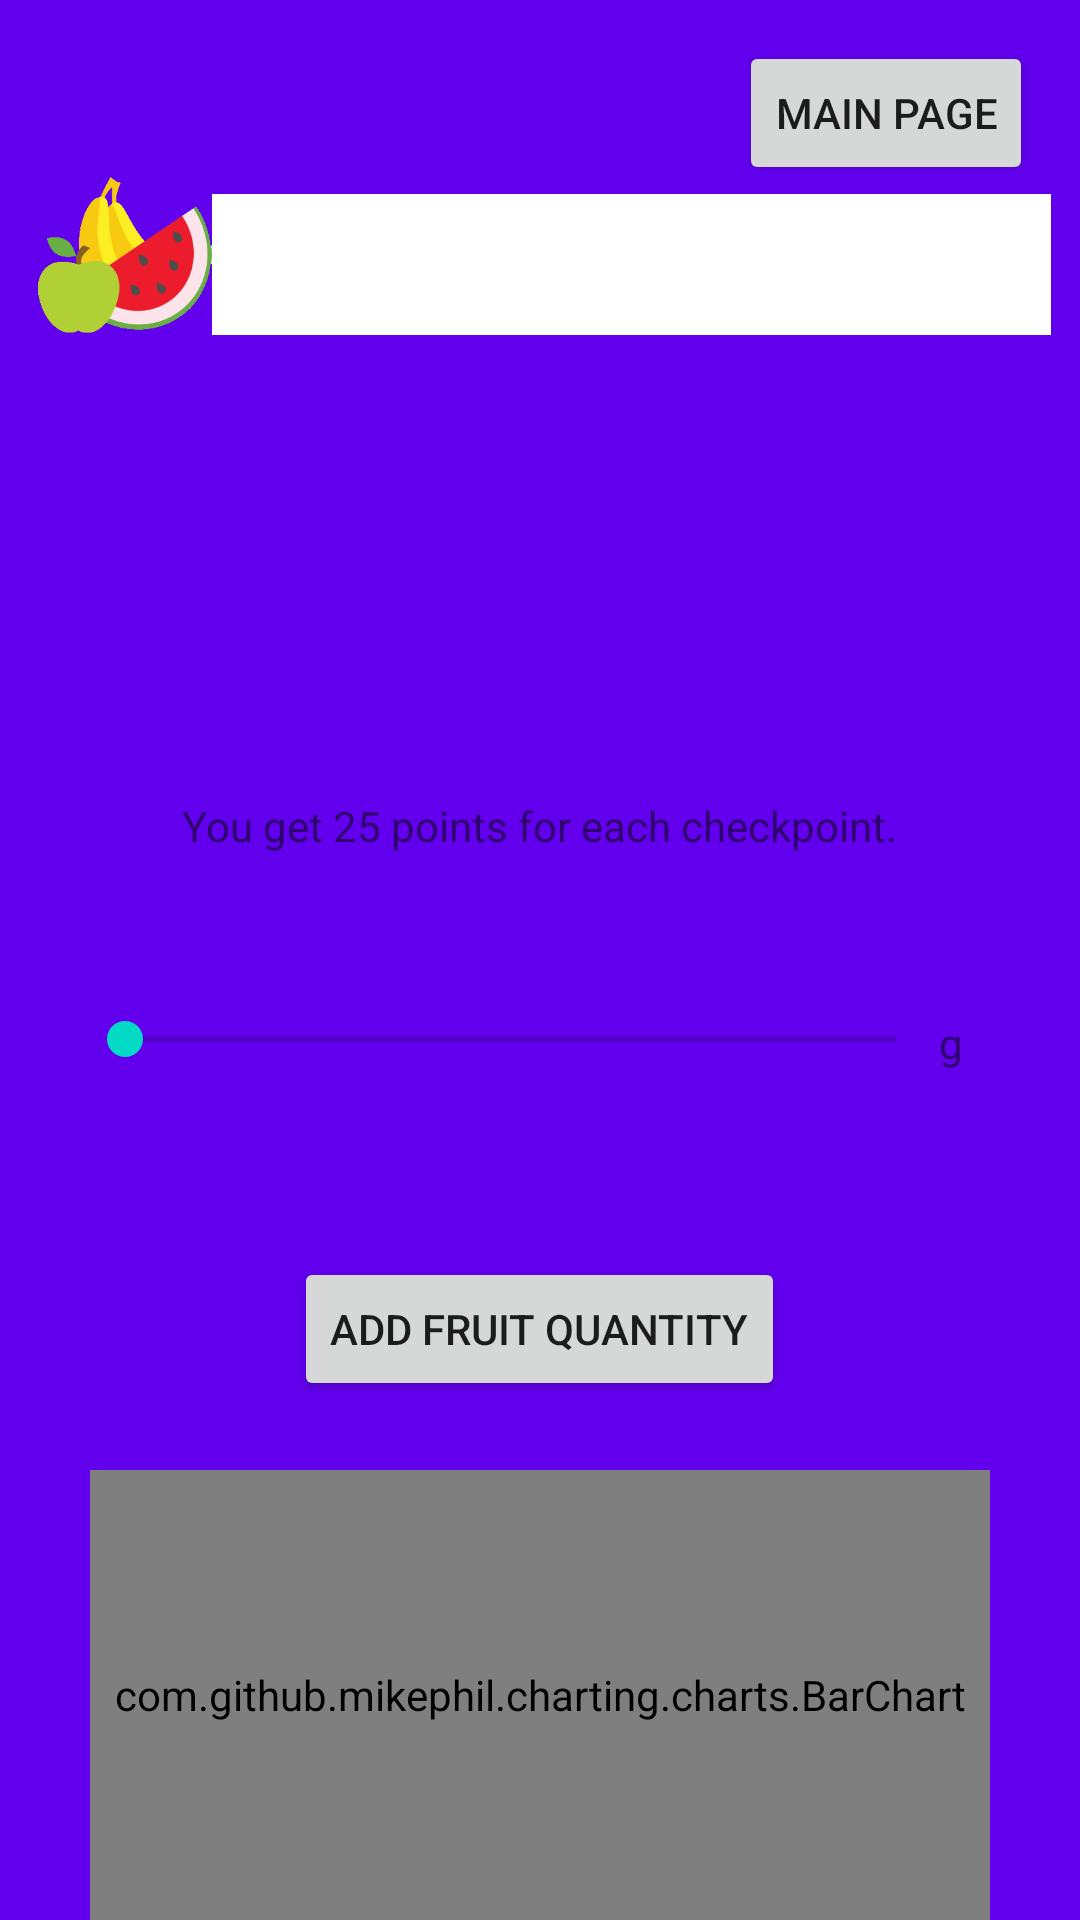

Point at icon controls on the screen. Image size 1080 × 1920, points as (x=x, y=y).
fruit: (x=136, y=256)
